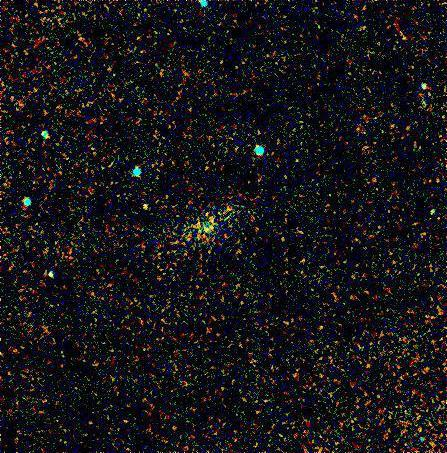star: (132, 194, 162, 224)
